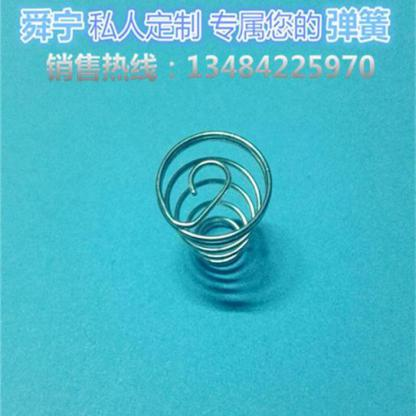FOD: (151, 128, 275, 271)
